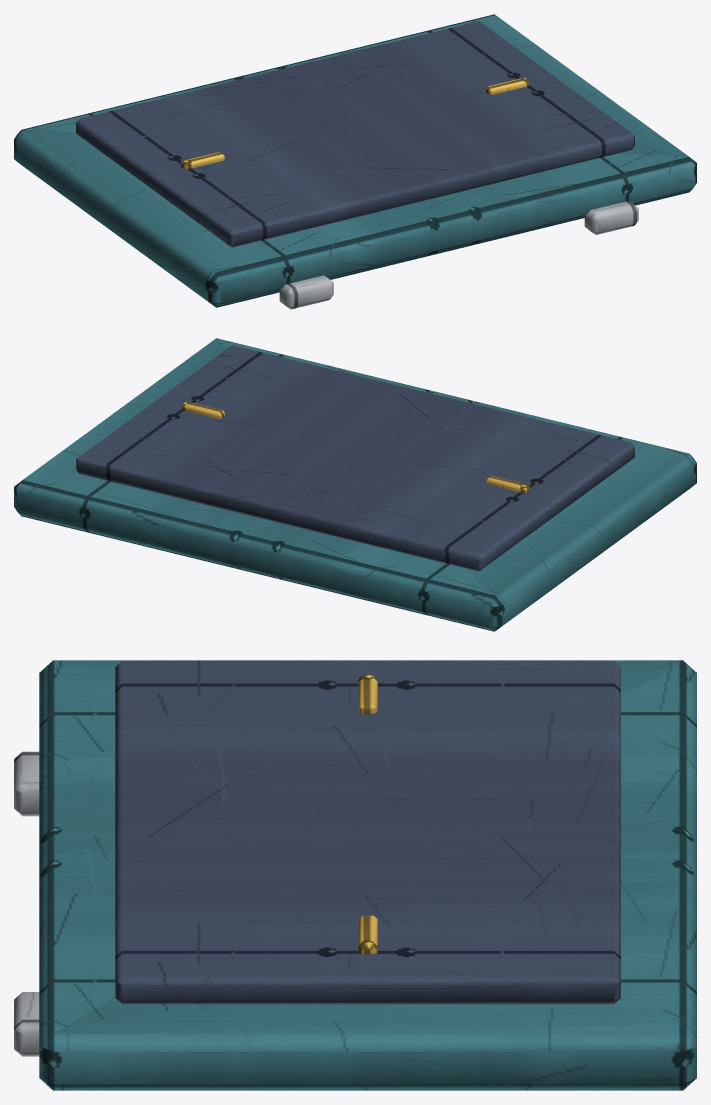
File: supply_crate_lid.glb
3 views of the same model, one above another, from view 1: azimuth 30°, elevation 25°; view 2: azimuth 150°, elevation 25°; view 3: azimuth 270°, elevation 25° (orthographic). The views are drawn at different scales.
Parts seen in each view (by area): view 1: DL018_SupplyCrateLid_graphite_navy, DL018_SupplyCrateLid_teal_shell, DL018_SupplyCrateLid_titanium, DL018_SupplyCrateLid_amber_accent; view 2: DL018_SupplyCrateLid_graphite_navy, DL018_SupplyCrateLid_teal_shell, DL018_SupplyCrateLid_amber_accent; view 3: DL018_SupplyCrateLid_graphite_navy, DL018_SupplyCrateLid_teal_shell, DL018_SupplyCrateLid_titanium, DL018_SupplyCrateLid_amber_accent.
Boxes of the visible parts, x1,y1,x2,y2 form: DL018_SupplyCrateLid_graphite_navy: (76,21,634,247); DL018_SupplyCrateLid_teal_shell: (14,14,696,307); DL018_SupplyCrateLid_titanium: (279,201,638,309); DL018_SupplyCrateLid_amber_accent: (181,77,529,169); DL018_SupplyCrateLid_graphite_navy: (76,345,634,571); DL018_SupplyCrateLid_teal_shell: (14,338,696,631); DL018_SupplyCrateLid_amber_accent: (181,401,529,493); DL018_SupplyCrateLid_graphite_navy: (115,660,620,1004); DL018_SupplyCrateLid_teal_shell: (39,660,696,1090); DL018_SupplyCrateLid_titanium: (14,751,39,1056); DL018_SupplyCrateLid_amber_accent: (358,675,377,954).
Size of the model in its own units: 1.44 by 0.195 by 1.08.
4 materials, 4 textured.
